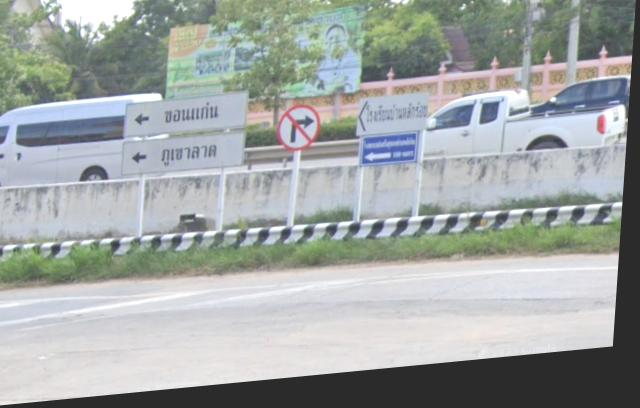not_turn_right: (278, 109, 323, 160)
